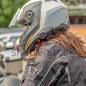helmets: (5, 0, 75, 50)
